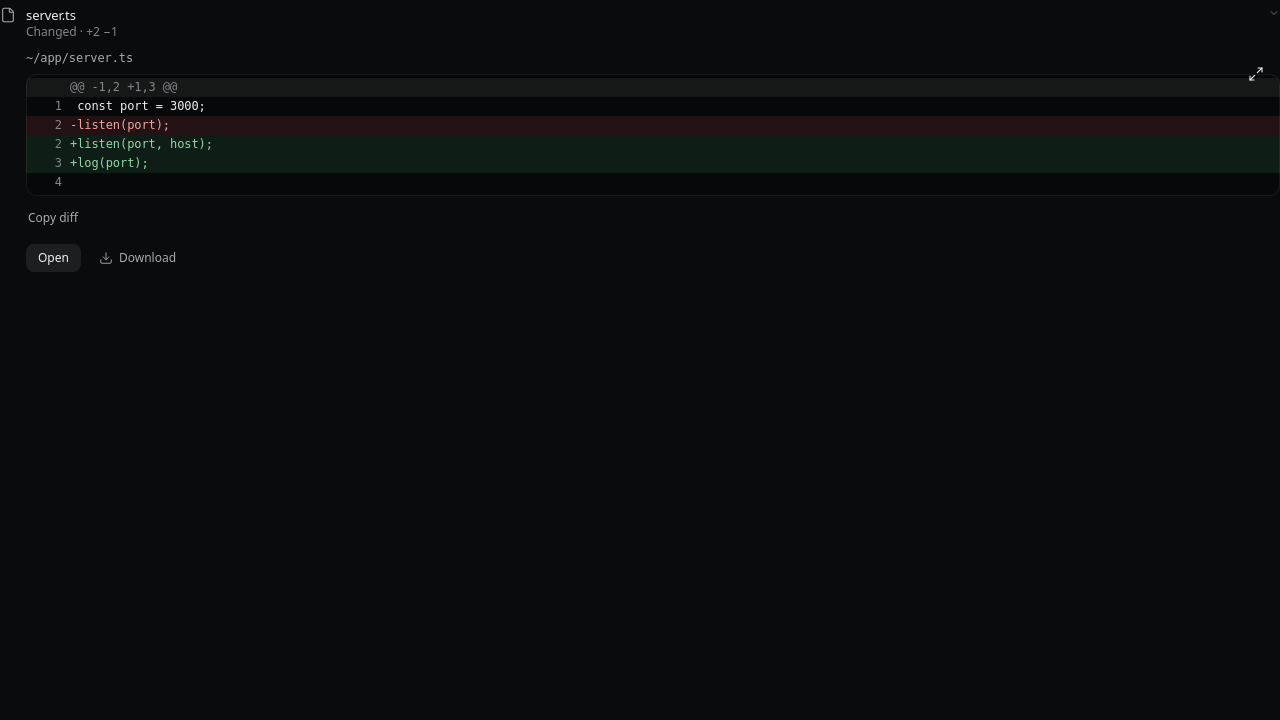
Test: opening files from where they are listed › opens and downloads a changed file from its Activity row
Click the button with aria-label "Download ~/app/server.ts": (138, 258) [89,244,188,272]
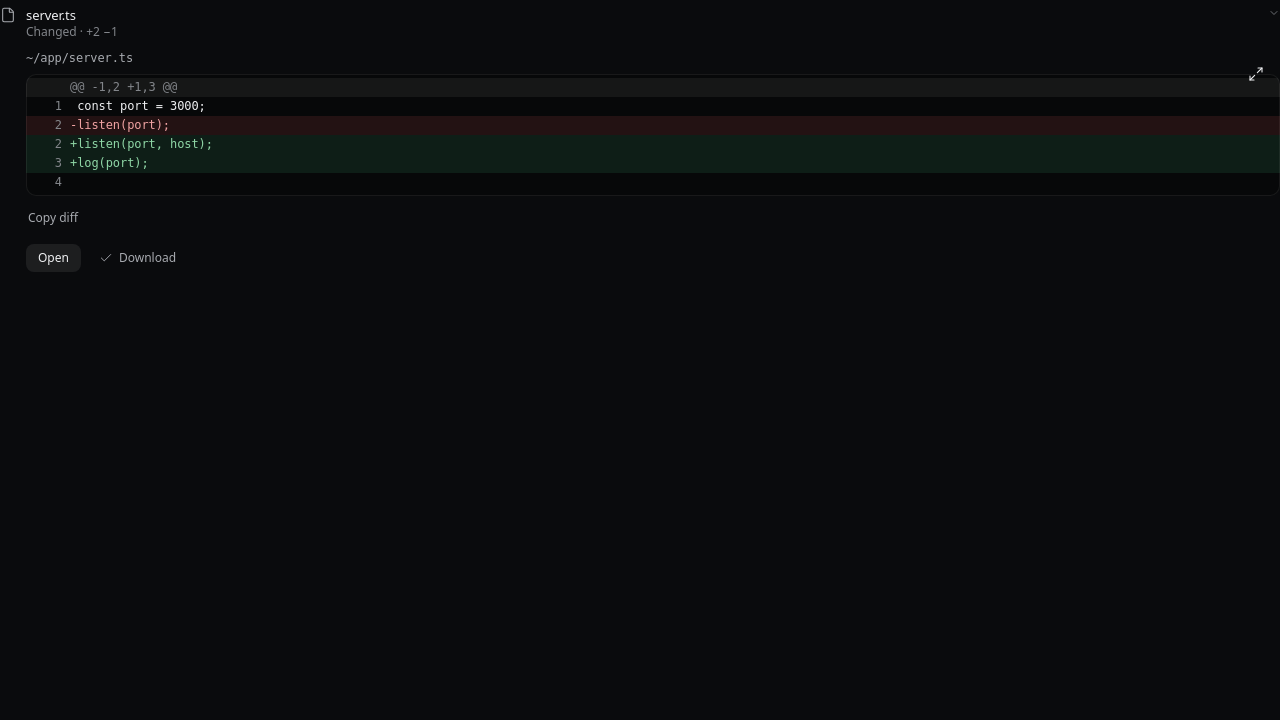
Click the button with aria-label "Open ~/app/server.ts": (53, 258) [26,244,81,272]
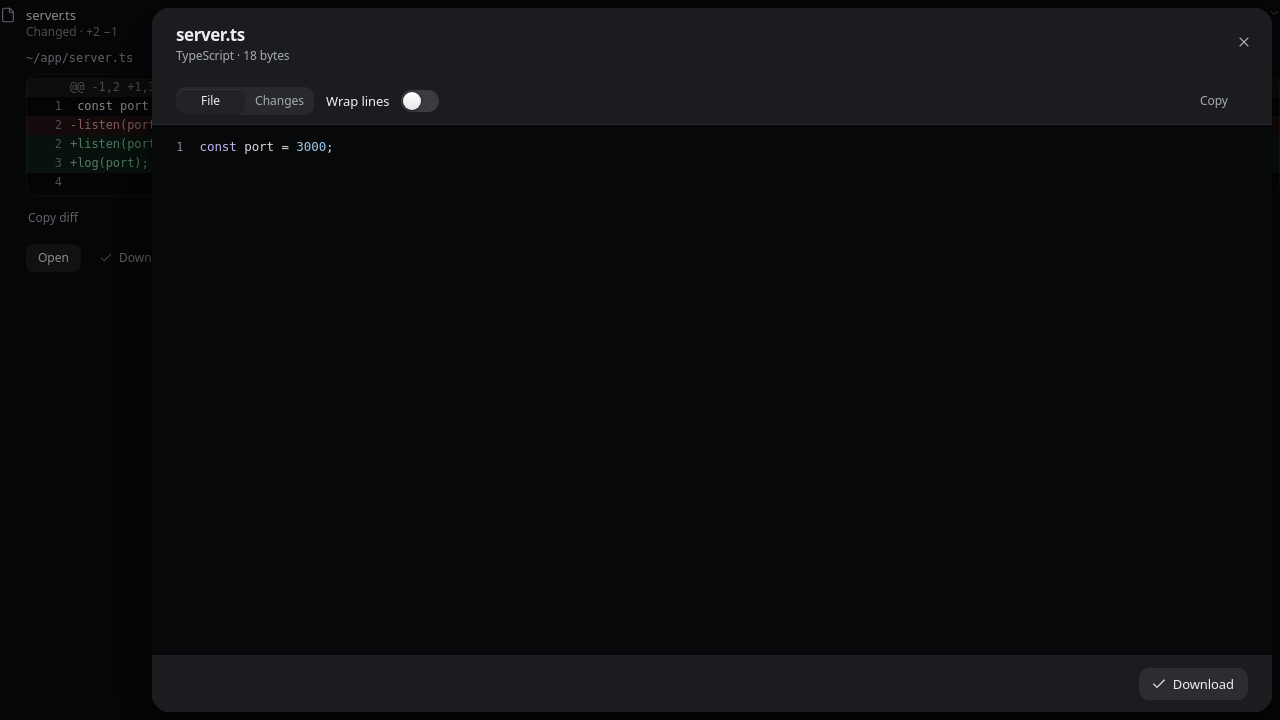
Expected: the element named "Contents of server.ts" is shown, [152,137,334,156]
